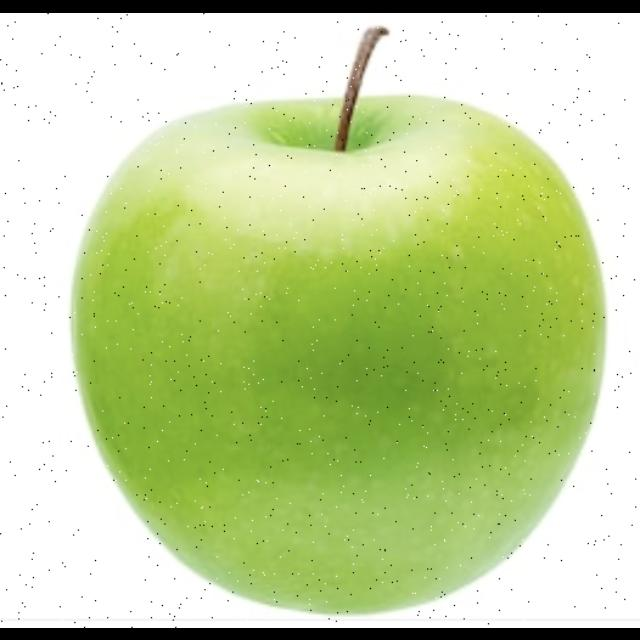Apel Segar: (59, 82, 618, 622)
